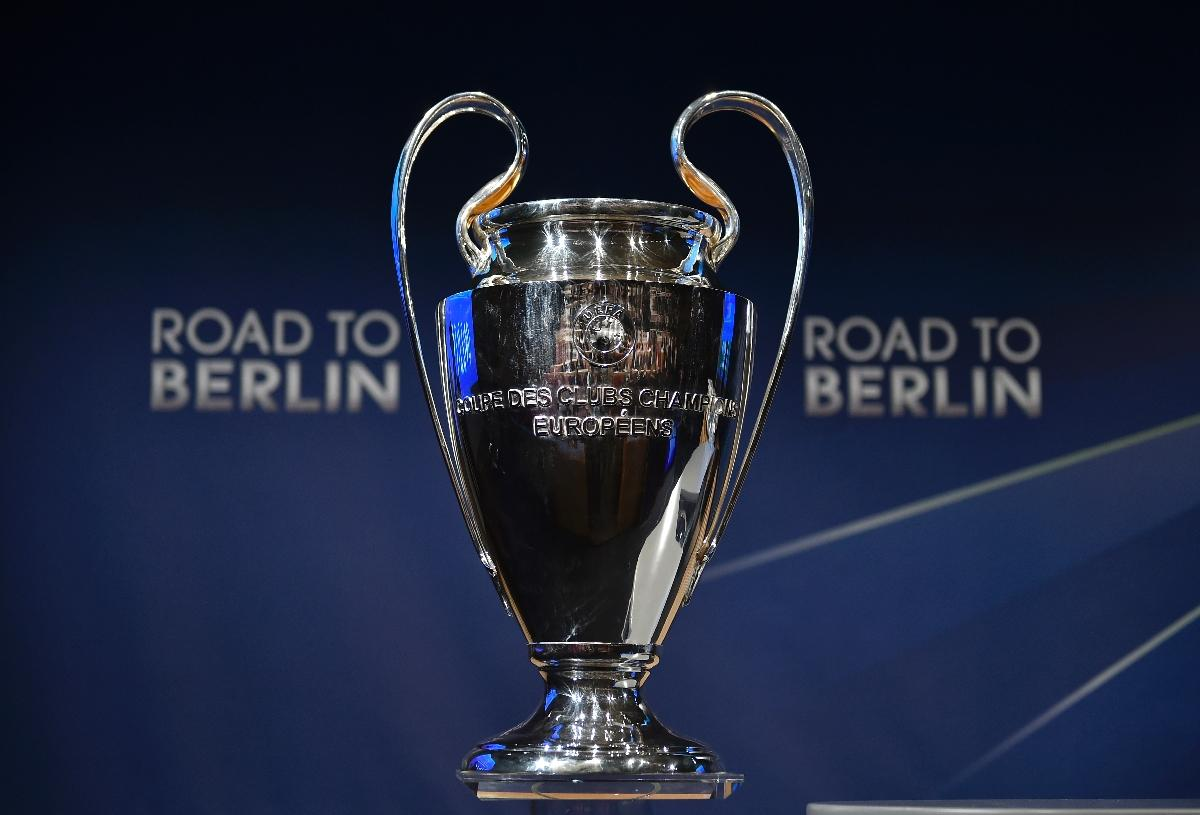trophy: (382, 81, 821, 815)
